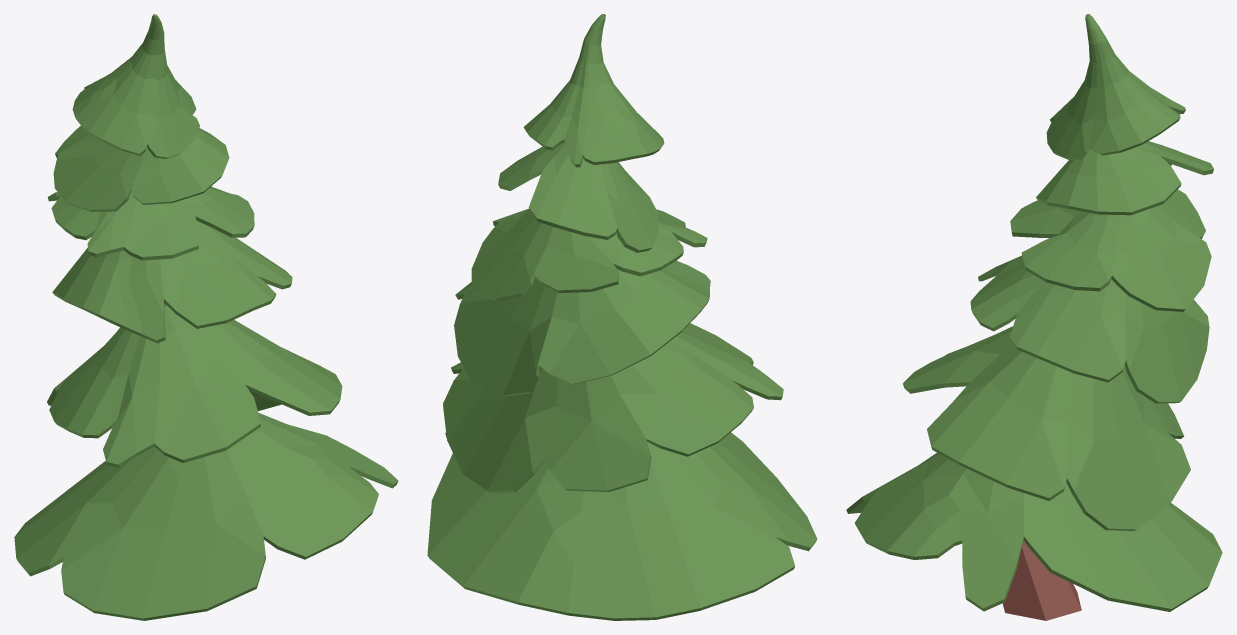
File: PineTree_3.glb
3 renders of one model, left to right at view 1: azimuth 30°, elevation 25°; view 2: azimuth 150°, elevation 25°; view 3: azimuth 270°, elevation 25°, orthographic. The views are drawn at different scales.
Visible parts, largest first — view 1: PineTree_3; view 2: PineTree_3; view 3: PineTree_3.
Part boxes in pixels (<box>): PineTree_3: <box>14,14,398,620</box>; PineTree_3: <box>427,14,817,620</box>; PineTree_3: <box>846,14,1222,620</box>.
Size of the model in its own units: 216 by 330 by 195.
